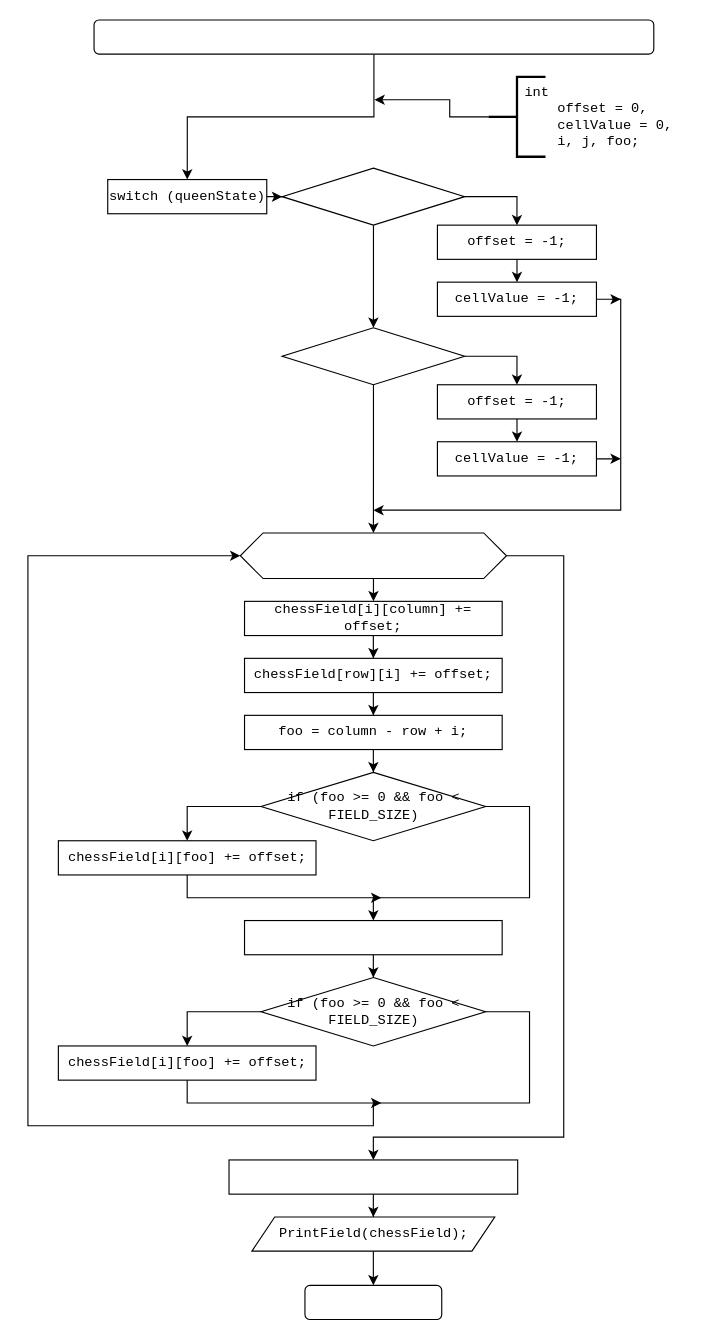
Image size: 702x1340. Some labels were removed from this diagram. The centre of each missing label's shape, as x and y in pixels:
"case Queen::Delete" goes at point (373, 356).
"case Queen::Set" goes at point (373, 196).
"chessField[row][column] = cellValue;" goes at point (373, 1176).
"foo = column + row - i;" goes at point (372, 937).
"for (i = 0; i < FIELD_SIZE; i++)" goes at point (373, 555).
"void SetState(int** chessField, Queen queenState, int row, int column)" goes at point (373, 36).
